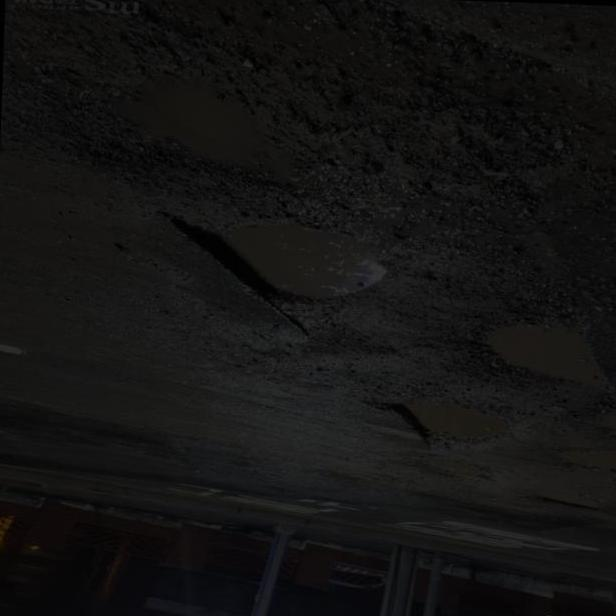pothole: (85, 41, 333, 192), (180, 208, 404, 326), (460, 298, 616, 394), (370, 386, 504, 458), (411, 456, 496, 487), (523, 486, 616, 514), (550, 447, 616, 470)
